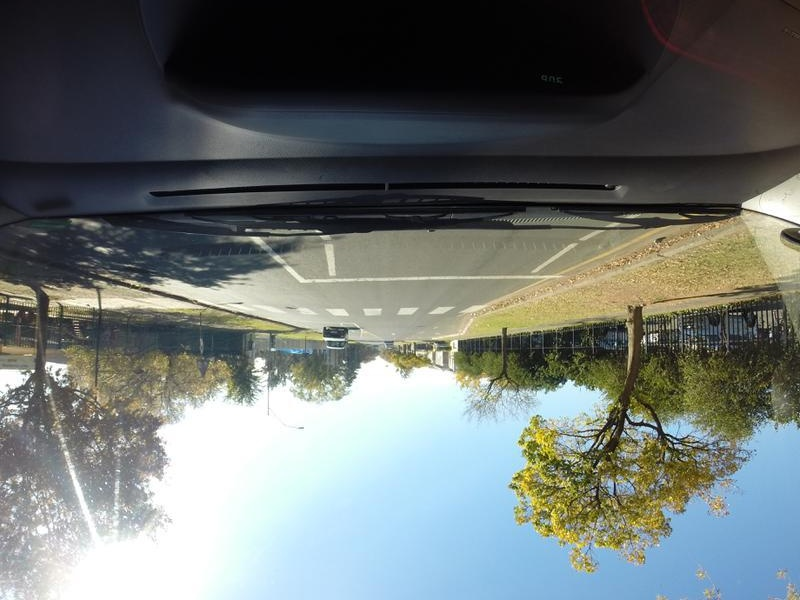pothole: (276, 298, 295, 315)
